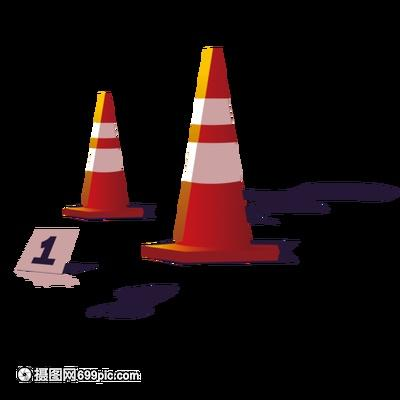cone_barrel: (151, 45, 263, 259), (64, 93, 138, 220)
